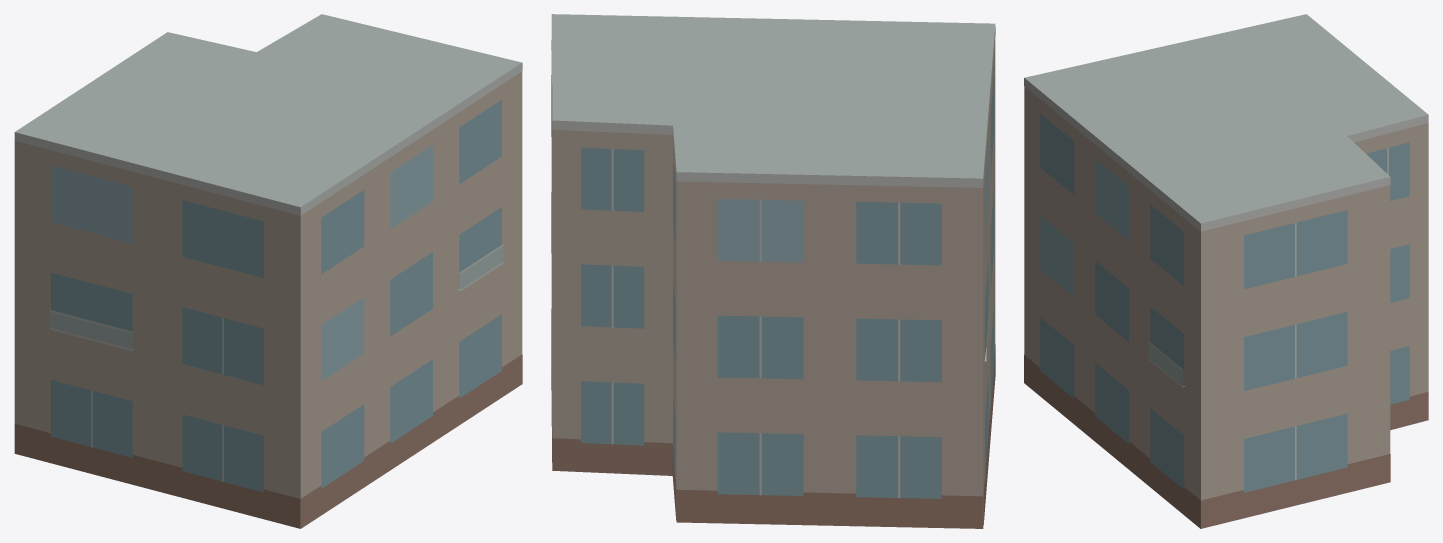
Rendered from survey-upis-32928689.glb.
3 views of the same model, side by side, from view 1: azimuth 30°, elevation 25°; view 2: azimuth 150°, elevation 25°; view 3: azimuth 270°, elevation 25° (orthographic). The views are drawn at different scales.
Parts seen in each view (by area): view 1: survey-upis-32928689.tmp; view 2: survey-upis-32928689.tmp; view 3: survey-upis-32928689.tmp.
Boxes of the visible parts, x1=… form: survey-upis-32928689.tmp: x1=14, y1=14, x2=522, y2=528; survey-upis-32928689.tmp: x1=551, y1=14, x2=995, y2=528; survey-upis-32928689.tmp: x1=1024, y1=14, x2=1428, y2=528.
Bounding box in the file's own units: 13.47 × 9.15 × 10.99.
